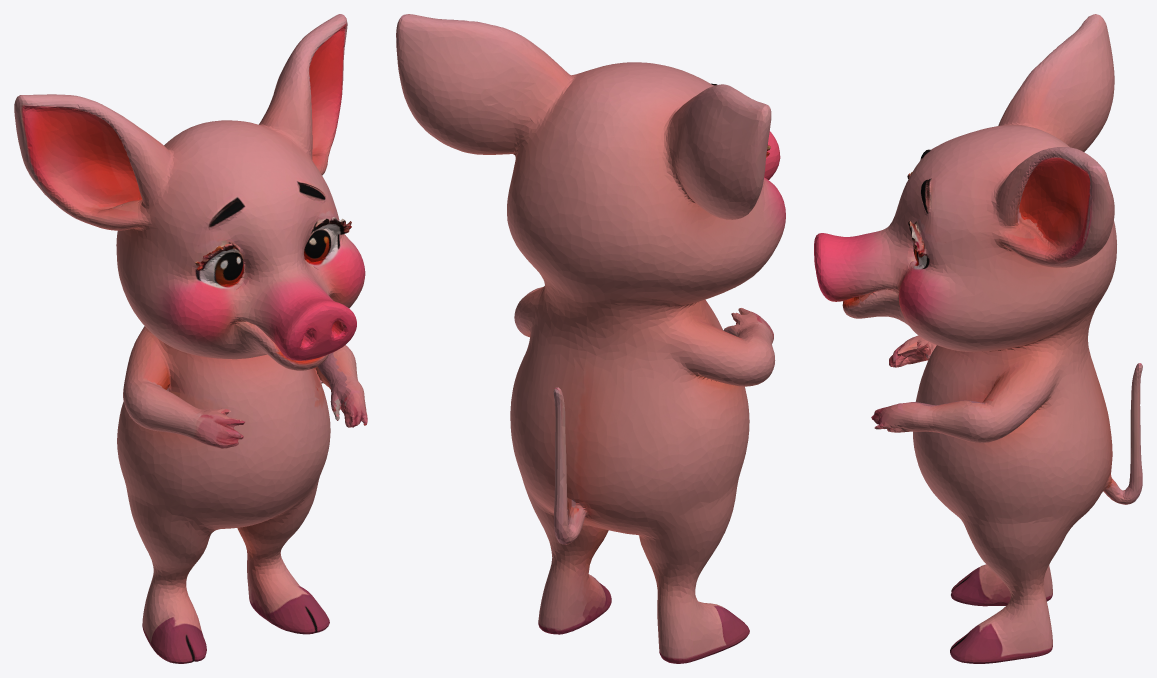
File: npc_pig.glb
The picture shows the model from 3 angles, left to right: view 1: azimuth 30°, elevation 25°; view 2: azimuth 150°, elevation 25°; view 3: azimuth 270°, elevation 25°; orthographic projection. The views are drawn at different scales.
Visible parts, largest first — view 1: textured_mesh.obj; view 2: textured_mesh.obj; view 3: textured_mesh.obj.
Part boxes in pixels (left/top/right/bottom): textured_mesh.obj: left=14, top=14, right=367, bottom=663; textured_mesh.obj: left=396, top=14, right=785, bottom=663; textured_mesh.obj: left=814, top=14, right=1142, bottom=663.
Bounding box in the file's own units: 1.27 × 1.99 × 1.11.
Materials: 1 (1 with a texture image).
